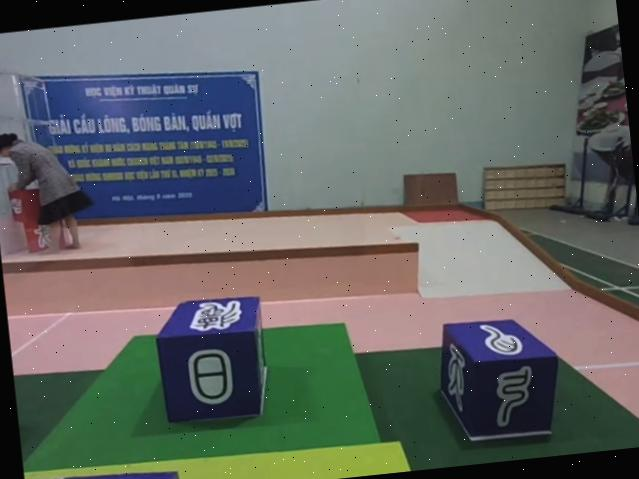R2 Fake Blue: (435, 313, 567, 447), (152, 292, 274, 426)
